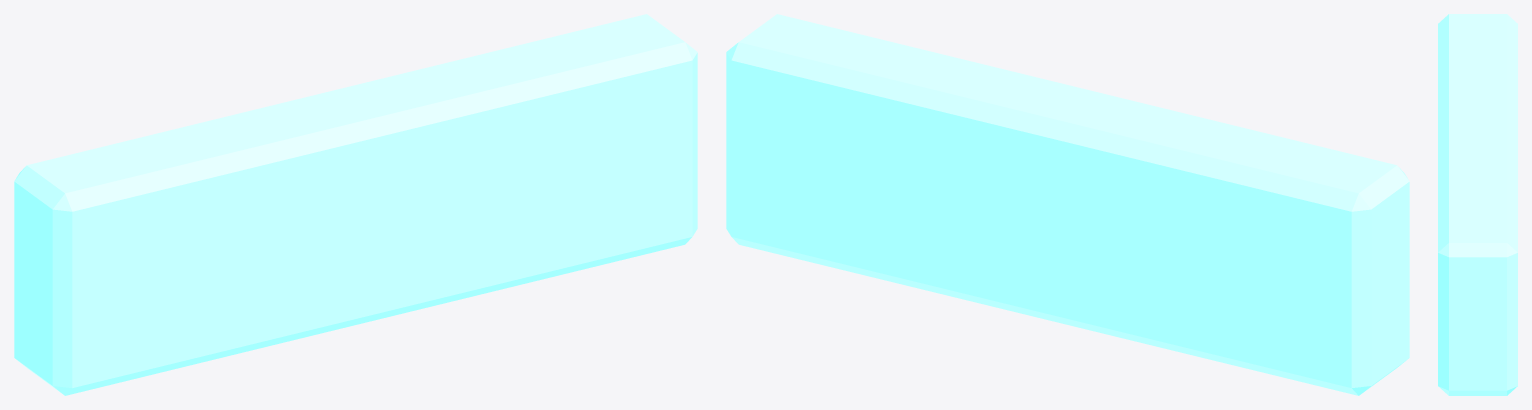
Rendered from helmet__visor_trim__base.glb.
3 views of the same model, side by side, from view 1: azimuth 30°, elevation 25°; view 2: azimuth 150°, elevation 25°; view 3: azimuth 270°, elevation 25° (orthographic). The views are drawn at different scales.
Parts seen in each view (by area): view 1: armor_helmet__visor_trim__base_v001; view 2: armor_helmet__visor_trim__base_v001; view 3: armor_helmet__visor_trim__base_v001.
Part boxes in pixels (x1,y1,x2,y2): armor_helmet__visor_trim__base_v001: (14, 14, 697, 395); armor_helmet__visor_trim__base_v001: (726, 14, 1409, 395); armor_helmet__visor_trim__base_v001: (1438, 14, 1517, 395).
Bounding box in the file's own units: 0.155 × 0.0465 × 0.022.
